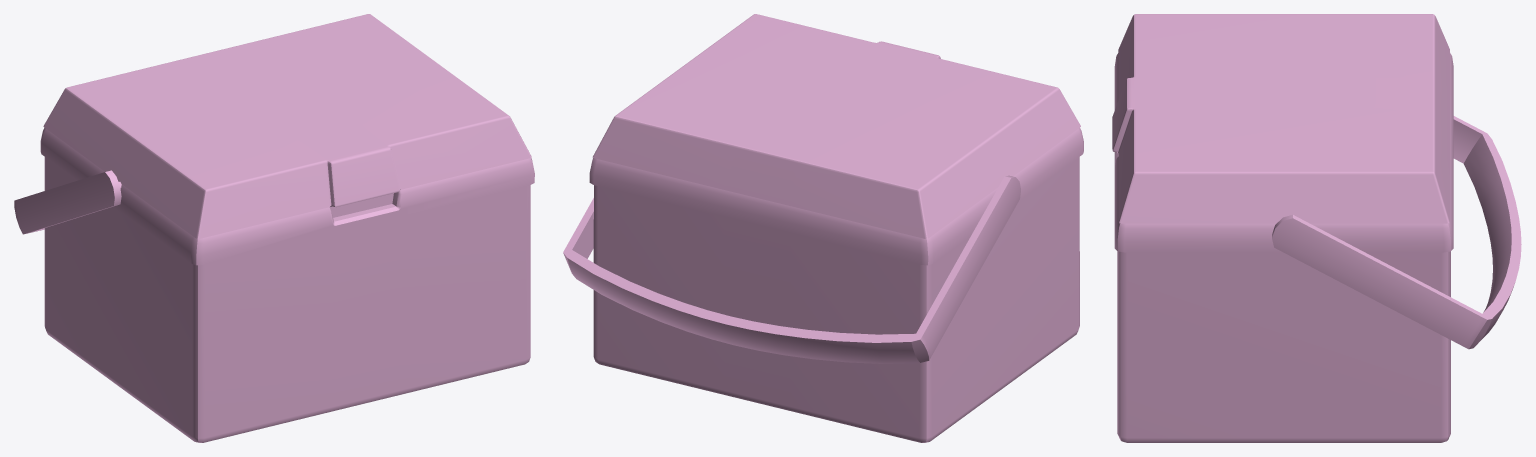
The model's file is Cooler.fbx.
The picture shows the model from 3 angles, left to right: view 1: azimuth 30°, elevation 25°; view 2: azimuth 150°, elevation 25°; view 3: azimuth 270°, elevation 25°; orthographic projection. The views are drawn at different scales.
Visible parts, largest first — view 1: cooler_tub, cooler_lid, cooler_handle; view 2: cooler_tub, cooler_lid, cooler_handle; view 3: cooler_lid, cooler_tub, cooler_handle.
Boxes of the visible parts, box(x1,y1,x2,y2) form: cooler_tub: box(40, 127, 534, 442); cooler_lid: box(43, 14, 531, 238); cooler_handle: box(14, 170, 121, 234); cooler_tub: box(589, 128, 1083, 442); cooler_lid: box(592, 14, 1080, 238); cooler_handle: box(563, 175, 1020, 363); cooler_lid: box(1112, 14, 1449, 223); cooler_tub: box(1114, 53, 1453, 442); cooler_handle: box(1272, 116, 1521, 349).
Size of the model in its own units: 0.5359 by 0.3518 by 0.4906.
